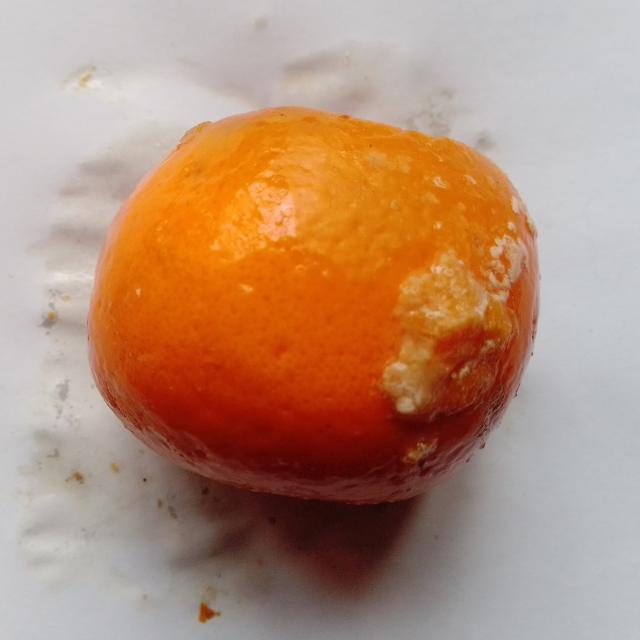orange: (89, 108, 538, 502)
